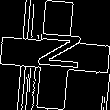N_W: (28, 33, 82, 77)
